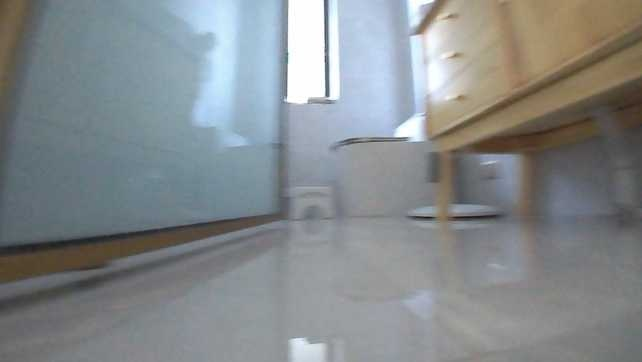chair_base: (406, 197, 500, 221)
plastic_stool: (282, 182, 339, 220)
toilet: (328, 108, 432, 220)
